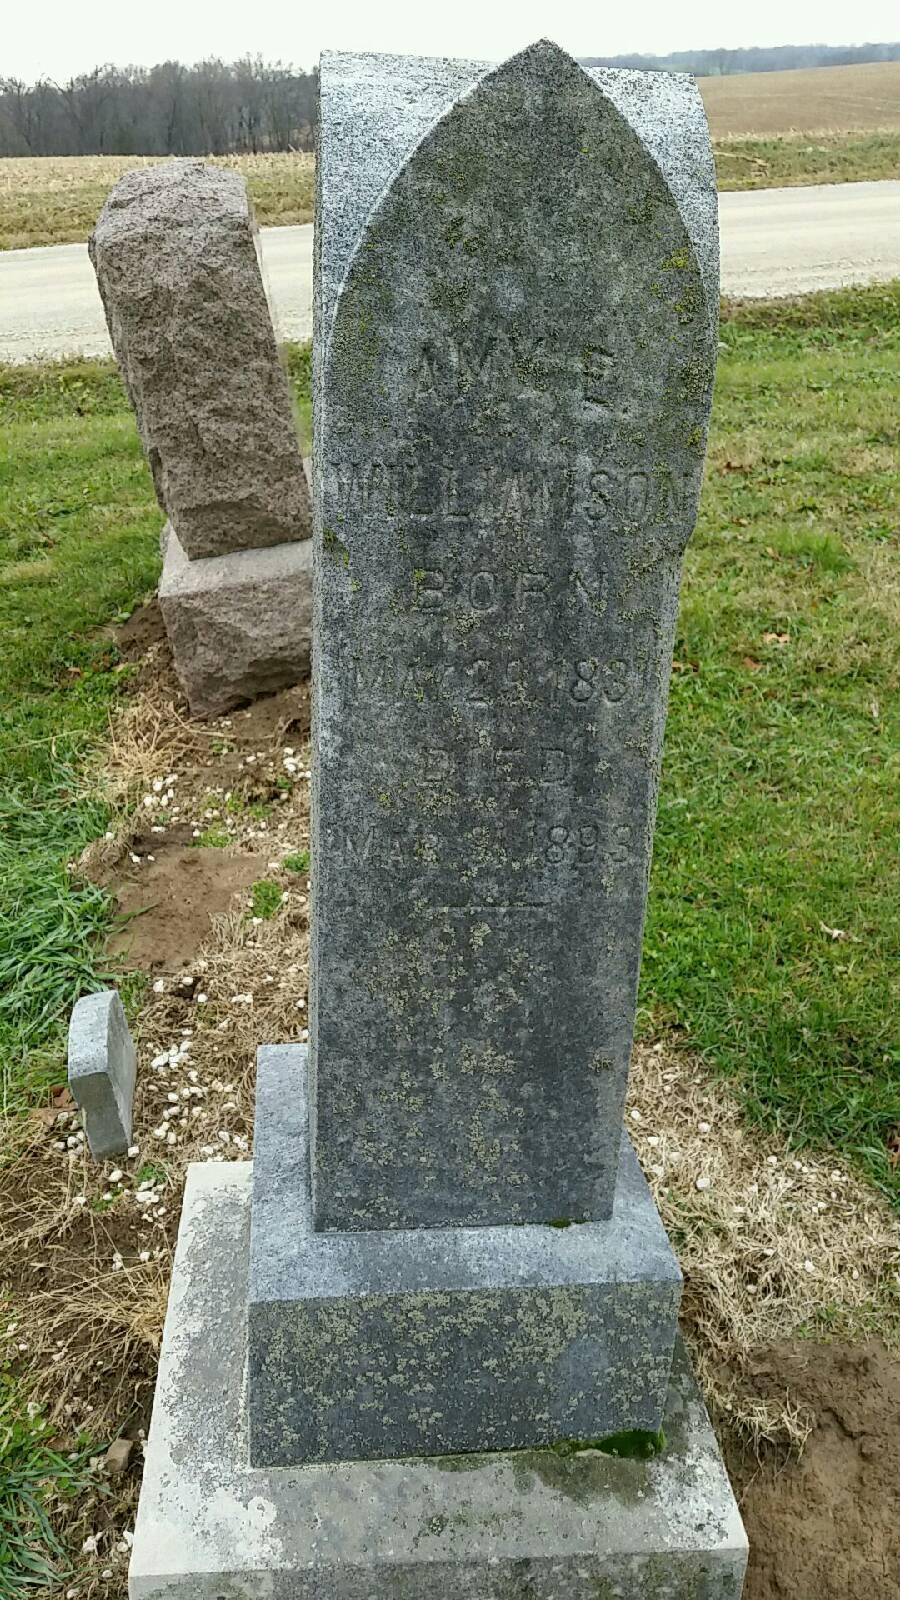obelisk: (241, 43, 727, 1473)
